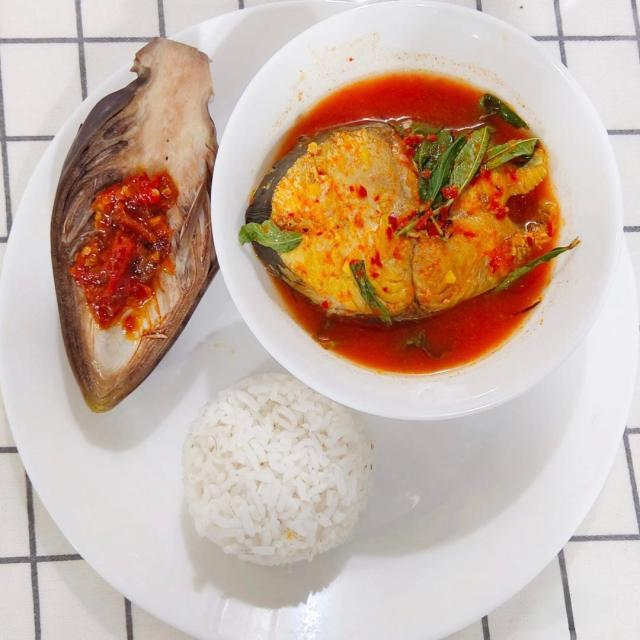Fish: (247, 114, 549, 325)
Plate: (139, 285, 258, 418)
Rice: (178, 380, 369, 569)
Vegetables: (48, 41, 218, 412)
